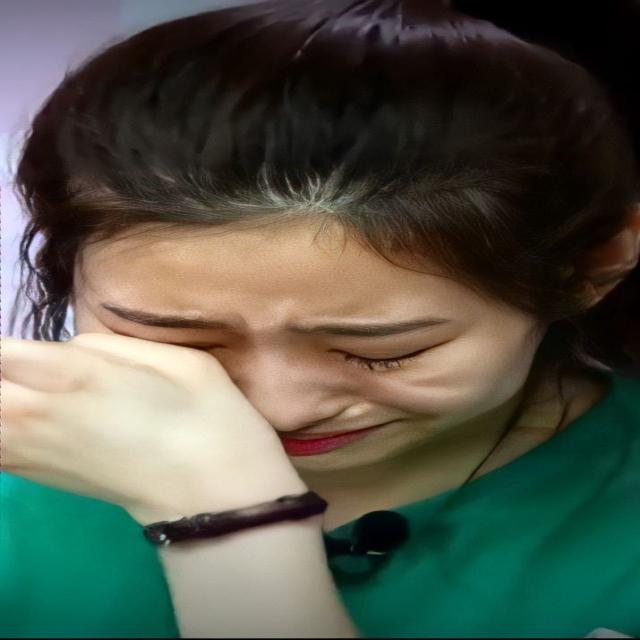sem_oculos: (18, 221, 621, 360)
